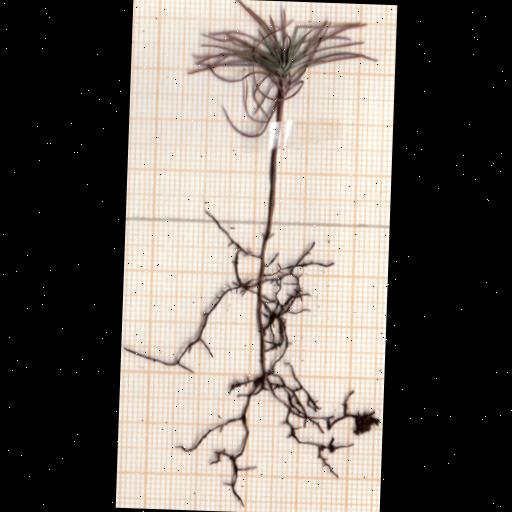flowerCedr: (192, 0, 374, 137)
rootCedr: (126, 213, 379, 505)
stemCedr: (264, 100, 284, 237)
